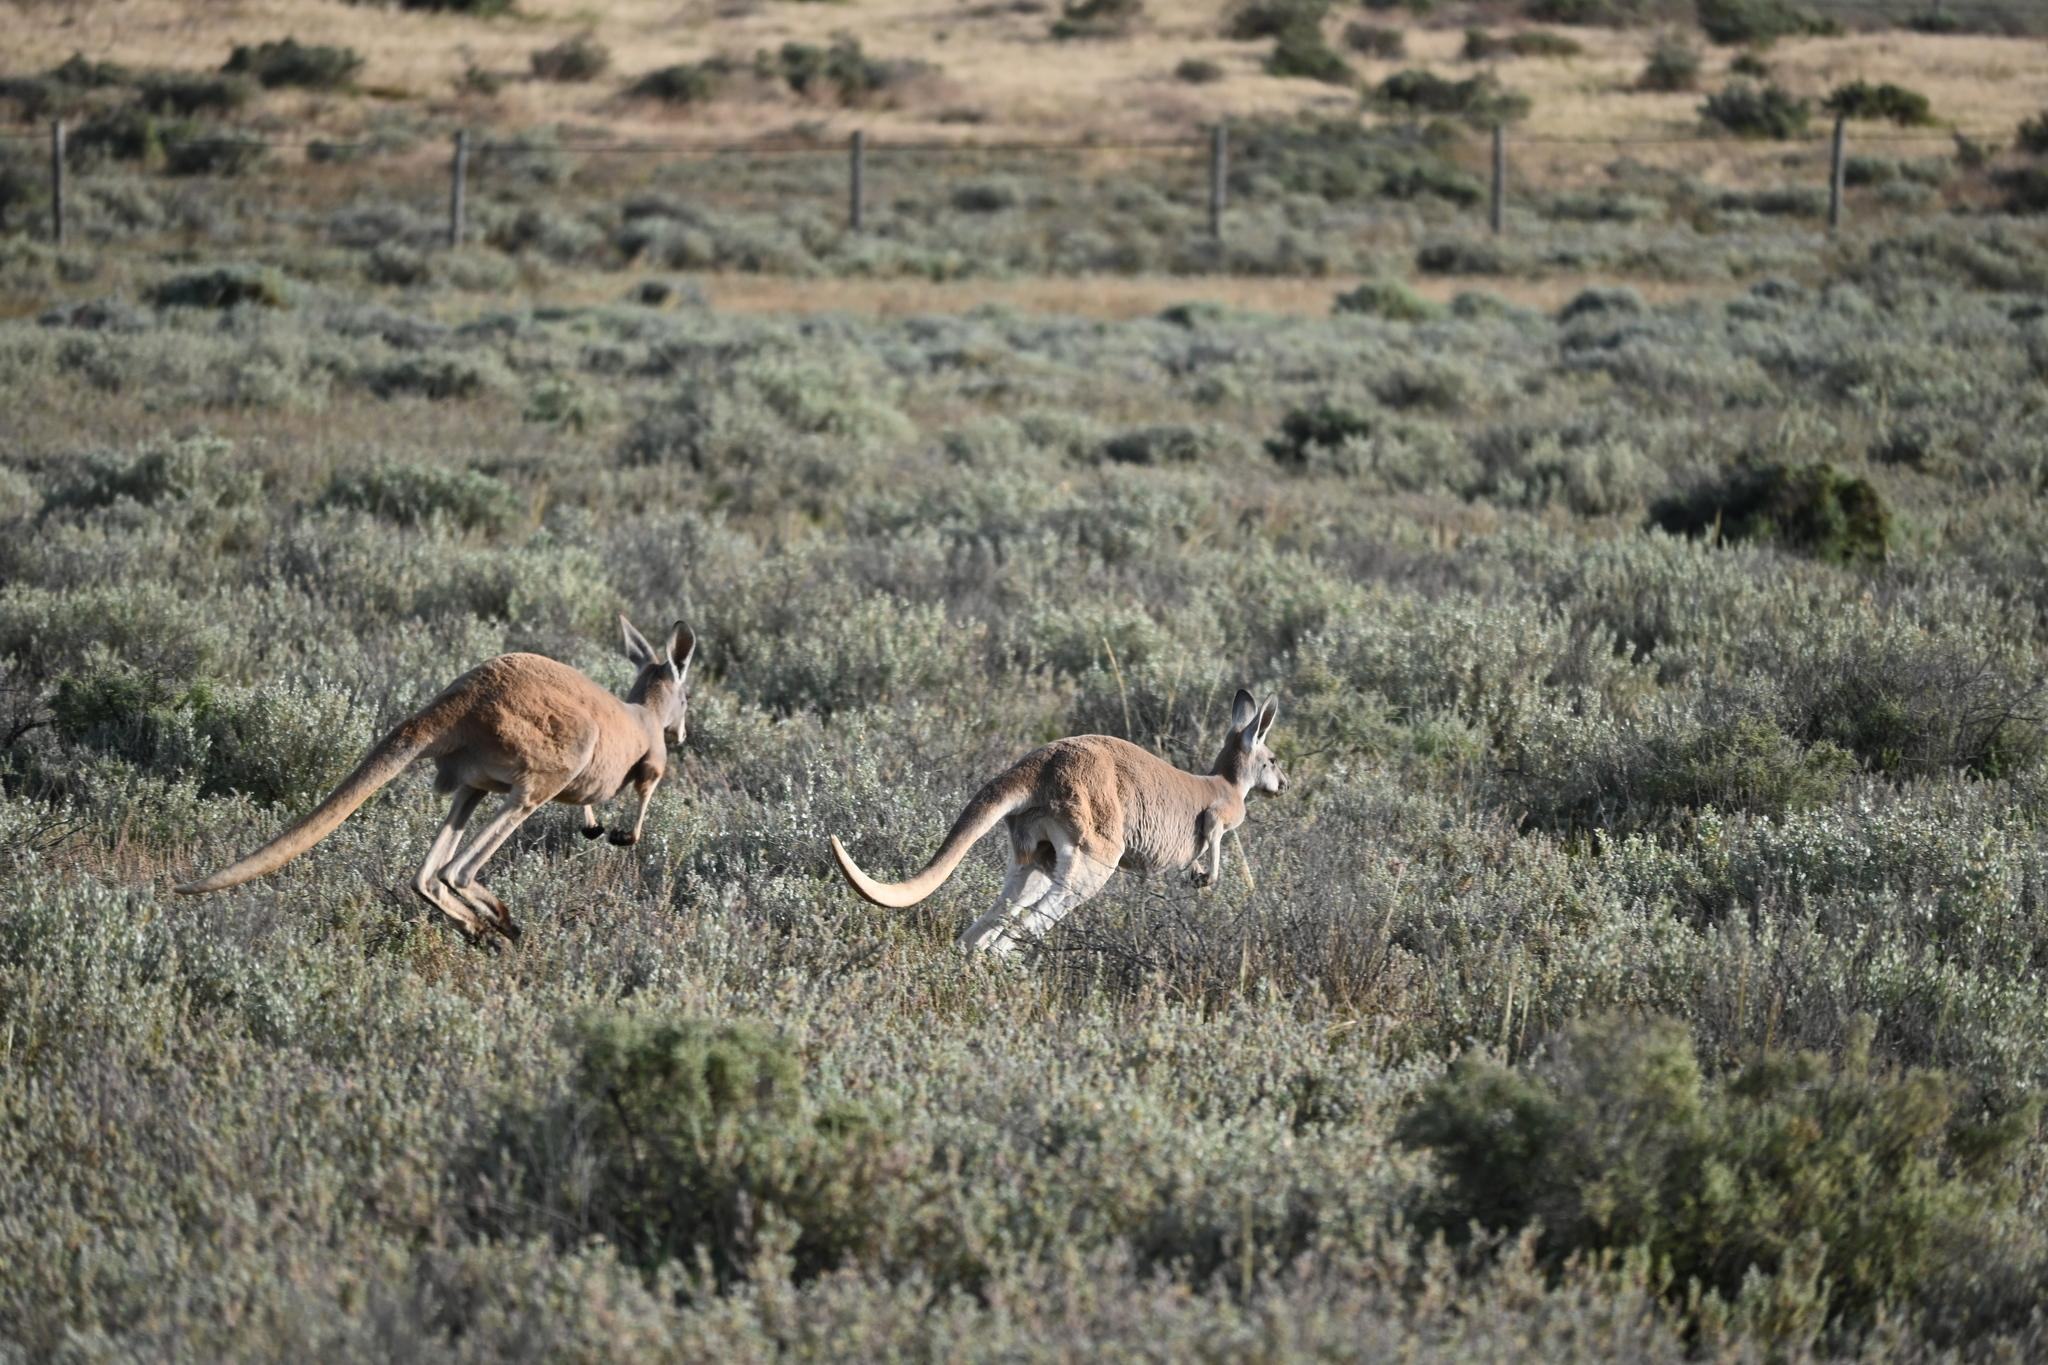Red kangaroo: (174, 614, 700, 954), (824, 689, 1293, 964)
